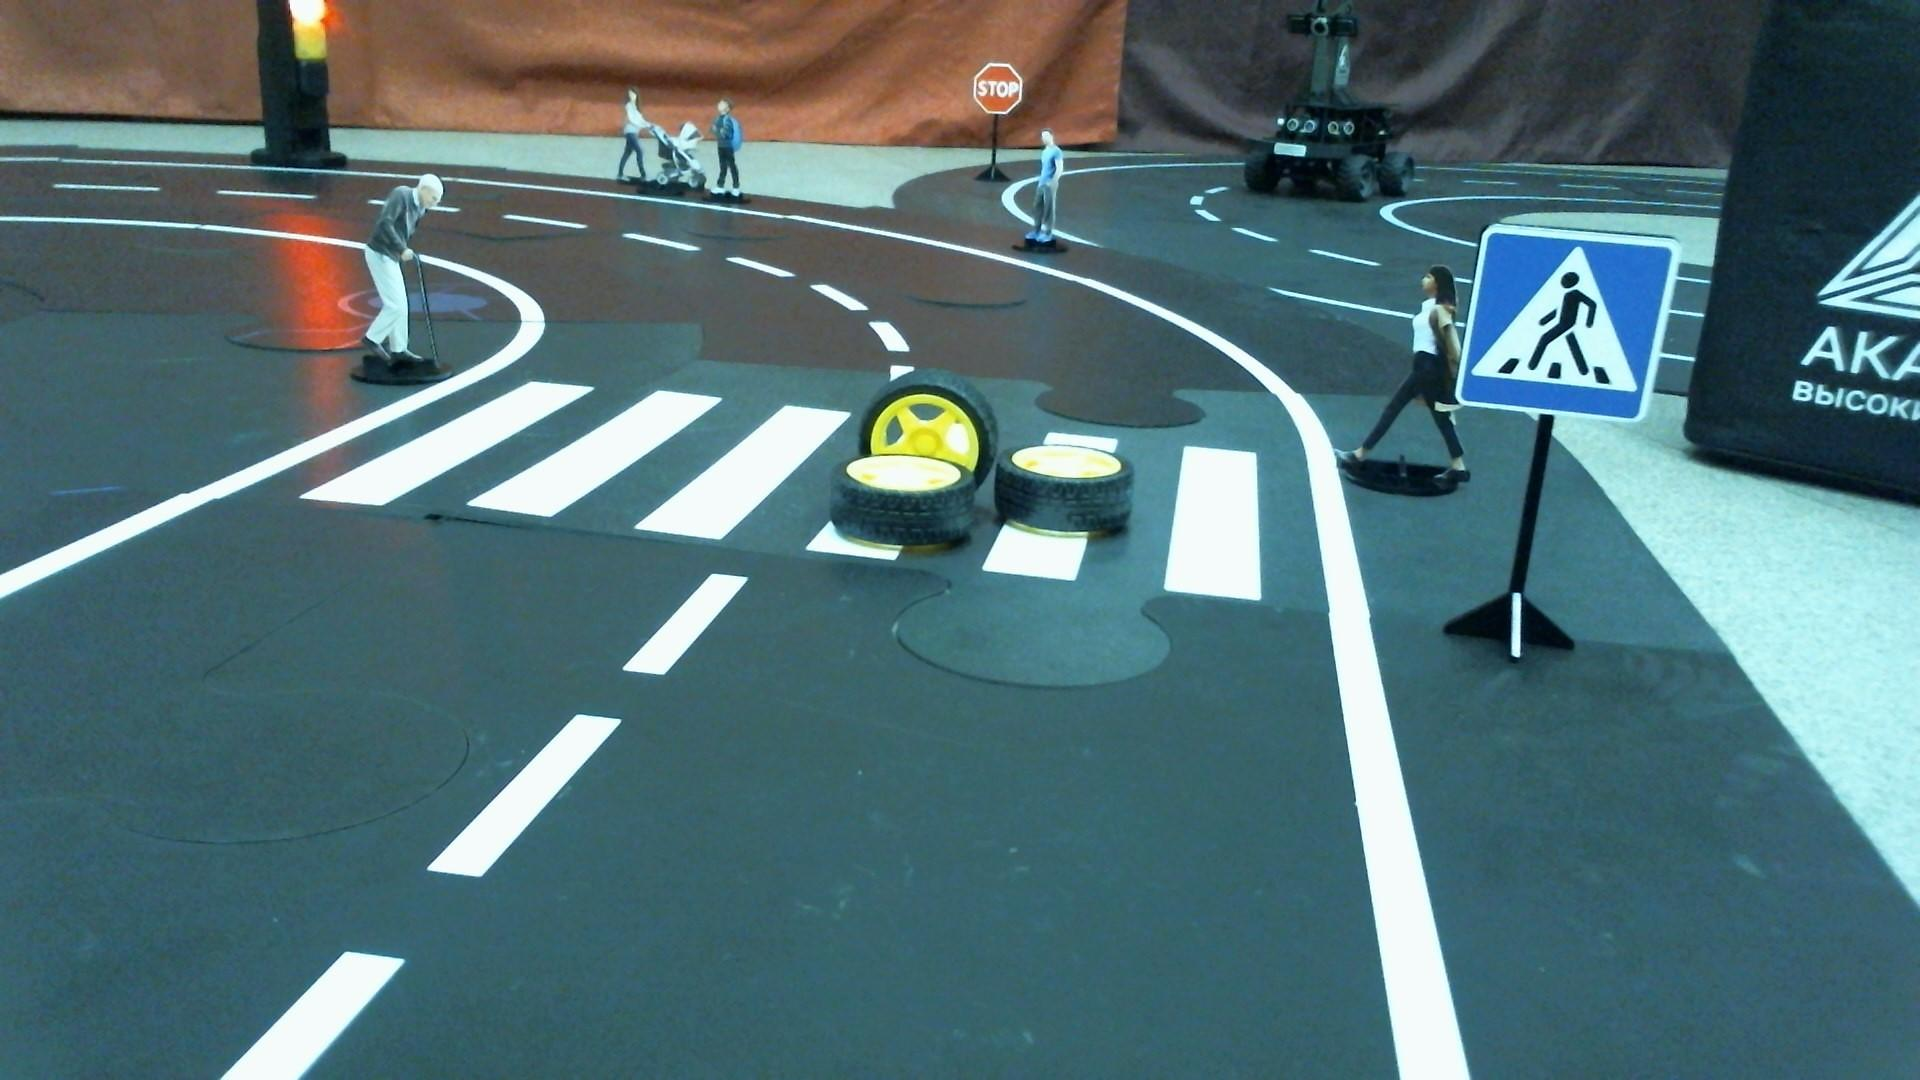barricade: (830, 367, 1133, 555)
crossing: (287, 367, 1325, 608)
person: (1328, 267, 1472, 497), (352, 173, 453, 383), (617, 82, 702, 190), (1010, 127, 1078, 255), (705, 97, 750, 202)
